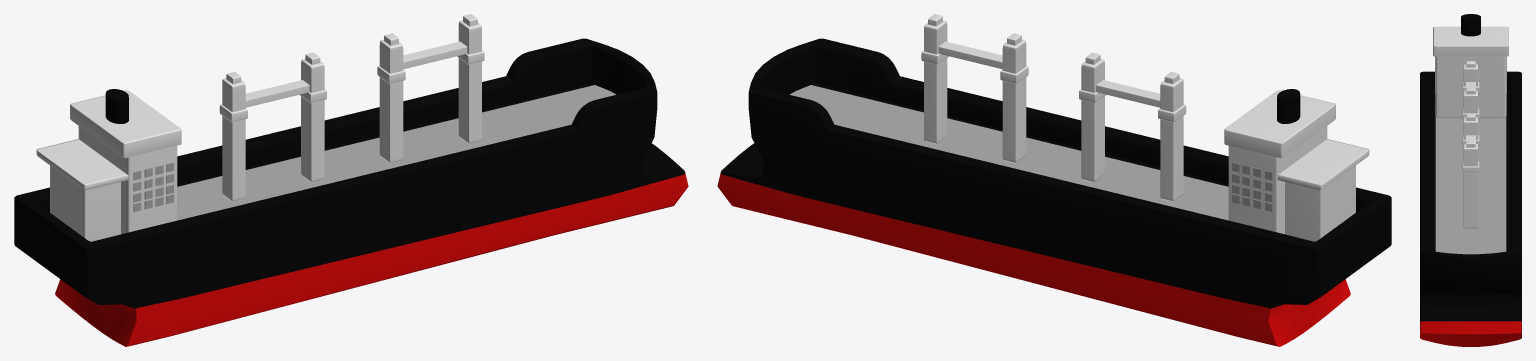
File: Ship_1.fbx
3 views of the same model, side by side, from view 1: azimuth 30°, elevation 25°; view 2: azimuth 150°, elevation 25°; view 3: azimuth 270°, elevation 25° (orthographic). The views are drawn at different scales.
Parts seen in each view (by area): view 1: Ship_1; view 2: Ship_1; view 3: Ship_1.
Part boxes in pixels (<box>): Ship_1: <box>14,14,688,346</box>; Ship_1: <box>717,14,1391,346</box>; Ship_1: <box>1420,14,1521,346</box>.
Size of the model in its own units: 7.87 by 2.85 by 1.66.
